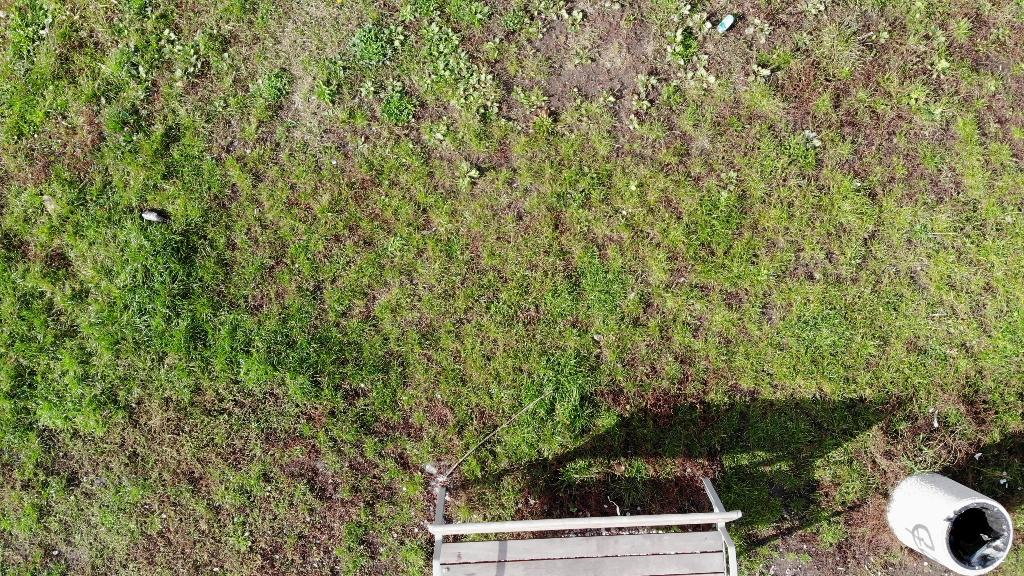dustbin: (885, 465, 1016, 576)
